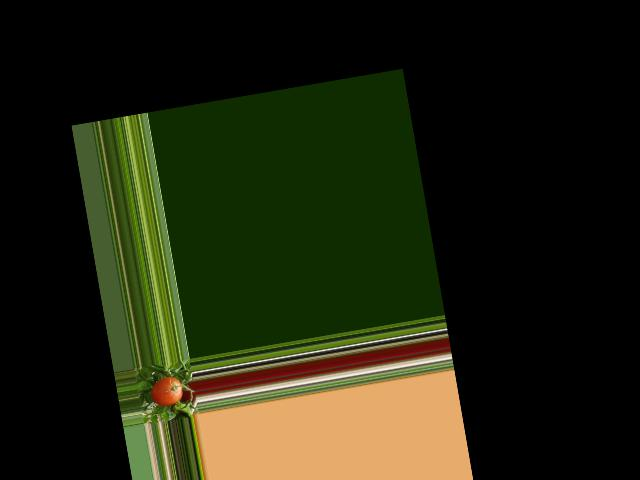tomato: (149, 374, 184, 407)
